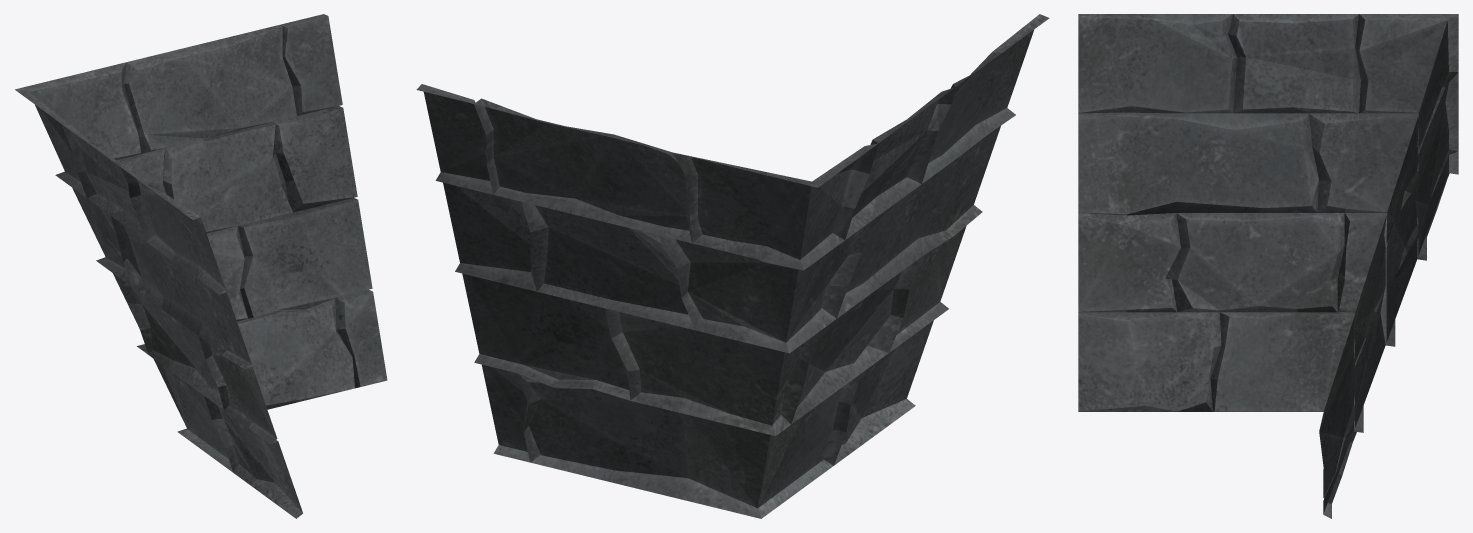
File: WallOutterCurve.fbx
3 renders of one model, left to right at view 1: azimuth 30°, elevation 25°; view 2: azimuth 150°, elevation 25°; view 3: azimuth 270°, elevation 25°, orthographic. The views are drawn at different scales.
Visible parts, largest first — view 1: WALL_OuterCurve; view 2: WALL_OuterCurve; view 3: WALL_OuterCurve.
Part boxes in pixels (x1,y1,x2,y2): WALL_OuterCurve: (15,14,387,518); WALL_OuterCurve: (416,14,1049,518); WALL_OuterCurve: (1078,14,1458,518).
Size of the model in its own units: 12 by 12.05 by 12.
1 material, 1 textured.
